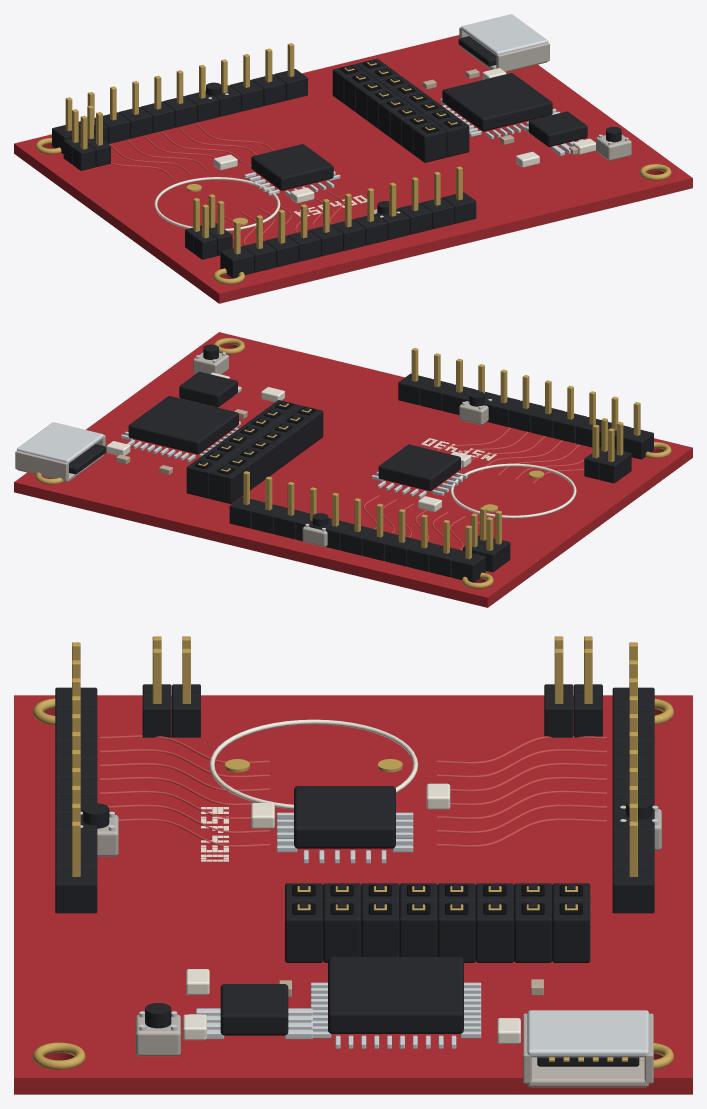
File: boards-13.glb
3 views of the same model, one above another, from view 1: azimuth 30°, elevation 25°; view 2: azimuth 150°, elevation 25°; view 3: azimuth 270°, elevation 25° (orthographic). The views are drawn at different scales.
Parts seen in each view (by area): view 1: board, headers, isolation, debug, usb, cpu, controls, capacitor; view 2: board, headers, isolation, debug, usb, cpu, controls, capacitor; view 3: board, headers, isolation, debug, usb, cpu, controls, capacitor.
Boxes of the visible parts, x1,y1,x2,y2 form: board: (14,35,692,303); headers: (52,43,476,278); isolation: (332,58,469,162); debug: (440,73,587,155); usb: (458,14,549,72); cpu: (244,144,340,196); controls: (206,82,631,217); capacitor: (154,177,280,231); board: (14,332,692,607); headers: (229,348,653,582); isolation: (186,400,323,503); debug: (121,371,241,462); usb: (15,422,106,481); cpu: (371,444,467,498); controls: (193,344,492,547); capacitor: (450,463,576,518); board: (14,695,692,1094); headers: (55,636,654,913); isolation: (285,883,590,962); debug: (196,957,481,1048); usb: (523,1010,653,1087); cpu: (276,786,413,863); controls: (80,797,661,1056); capacitor: (209,719,418,809).
Bounding box in the file's own units: 3.28 × 0.3825 × 2.4.
